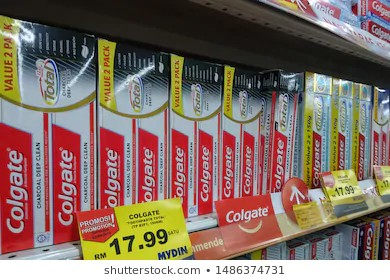colgate-family: (2, 27, 96, 251), (96, 33, 172, 240), (171, 50, 221, 235), (222, 57, 263, 216)
